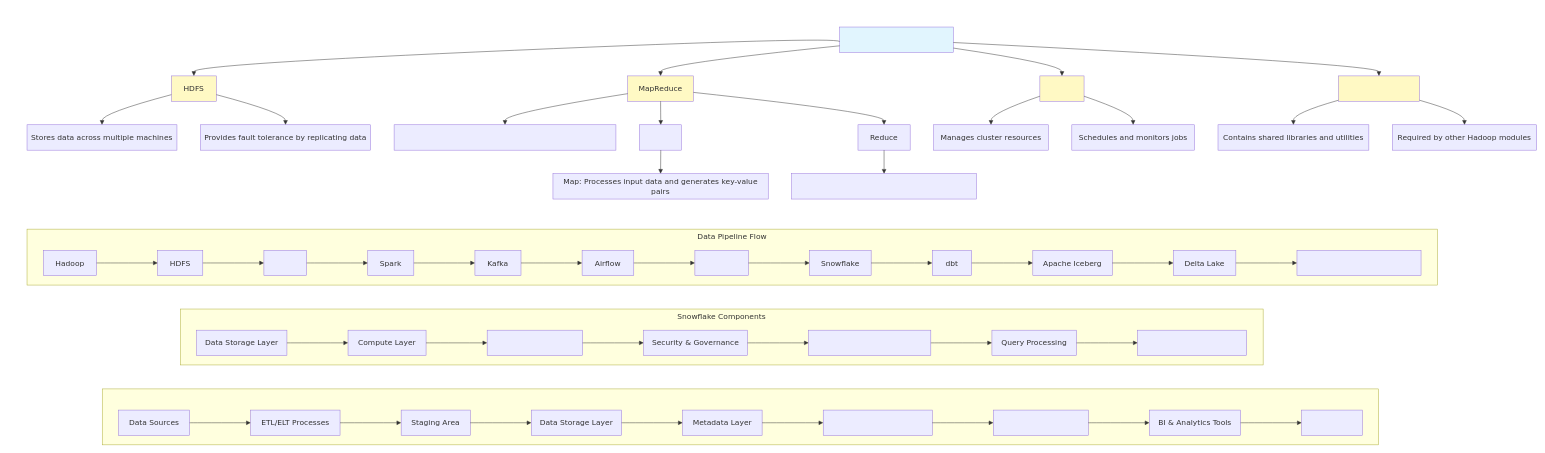
Some shapes in this 1545 by 453 pixel diagram are drawn without their labels. The box of each missing label's shape, as (x1, y1, x2, y2) in pixels:
Cloud Services Layer: (487, 330, 583, 356)
Data Lakehouse Architecture: (1296, 250, 1421, 276)
Data Sharing & Collaboration: (808, 330, 931, 356)
Data Warehouse Components: (102, 388, 1379, 445)
End Users: (1301, 410, 1362, 435)
Hadoop Core Components: (839, 27, 953, 52)
HadoopCommon: (1338, 75, 1420, 101)
Hive: (263, 250, 307, 276)
Integration with BI Tools: (1137, 330, 1247, 356)
Map: (639, 124, 681, 150)
OLAP Cubes / Views: (993, 410, 1088, 435)
Parquet: (694, 250, 748, 276)
Programming model for processing large datasets in parallel: (394, 124, 616, 150)
Query Processing Engine: (823, 410, 932, 435)
Reduce: Aggregates and summarizes the results: (791, 173, 976, 199)
YARN: (1039, 75, 1084, 101)
